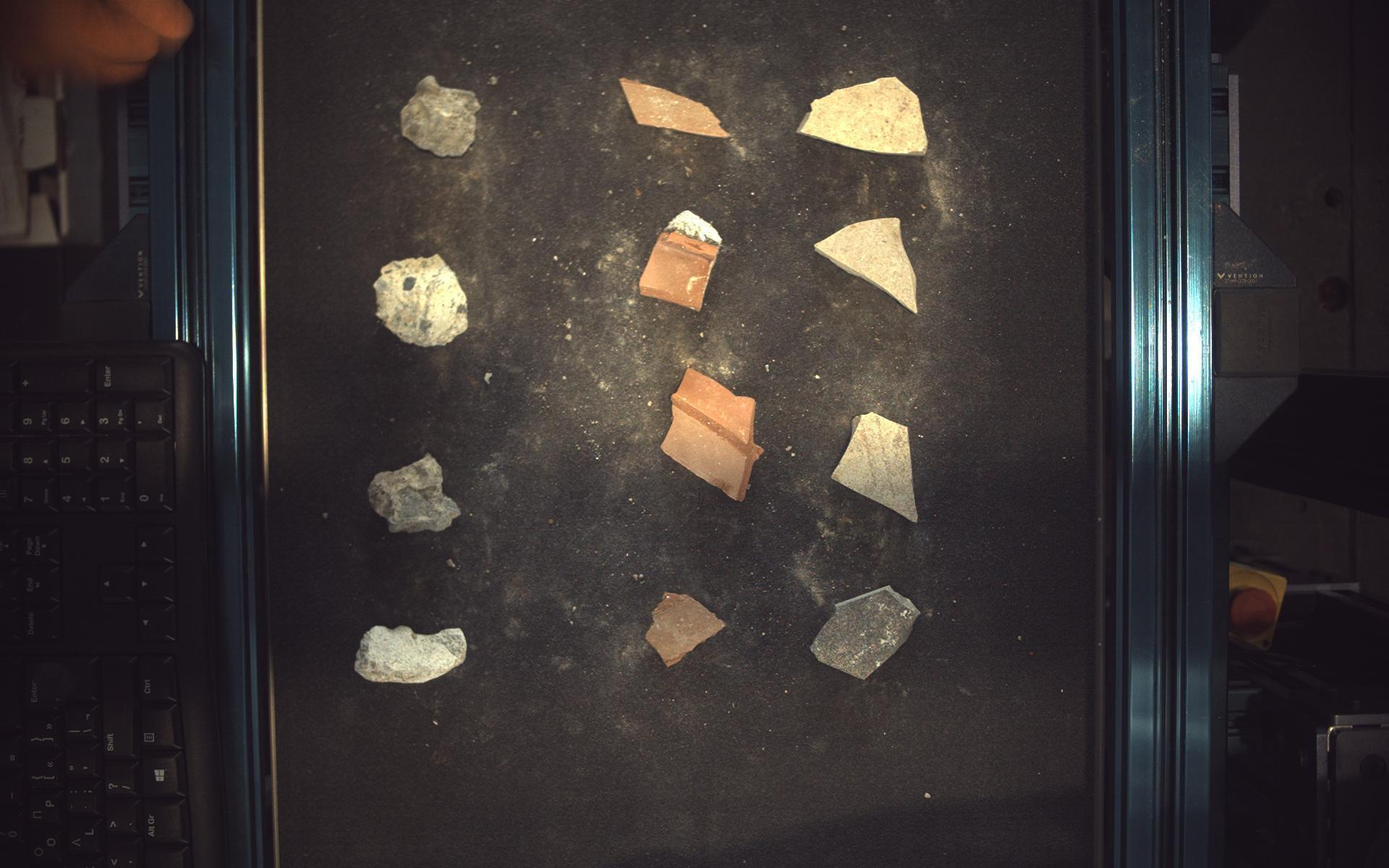brick: (662, 367, 765, 501), (640, 209, 723, 310), (621, 77, 730, 137), (646, 593, 726, 668)
concrete: (373, 254, 467, 346), (368, 454, 461, 533), (354, 626, 467, 684), (401, 74, 480, 156)
tile: (800, 75, 930, 155), (812, 587, 921, 680), (817, 218, 918, 312), (833, 413, 920, 522)
